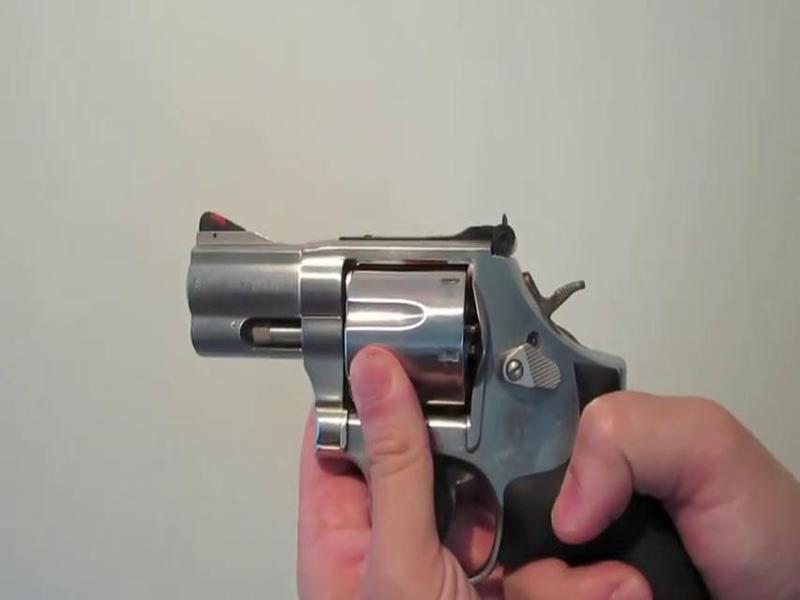Revolver: (157, 184, 666, 560)
